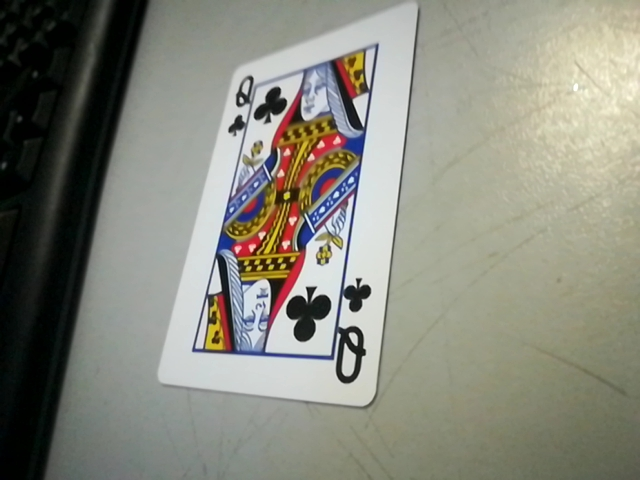mh q: (330, 272, 381, 398)
